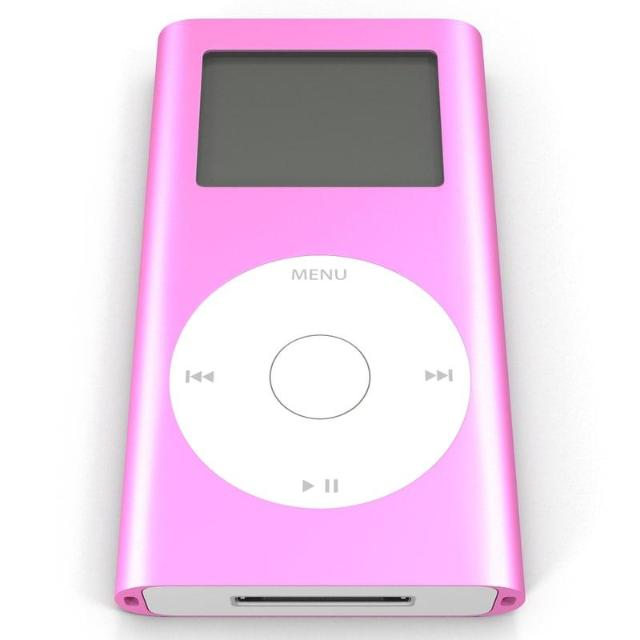Music-Player: (107, 6, 531, 630)
